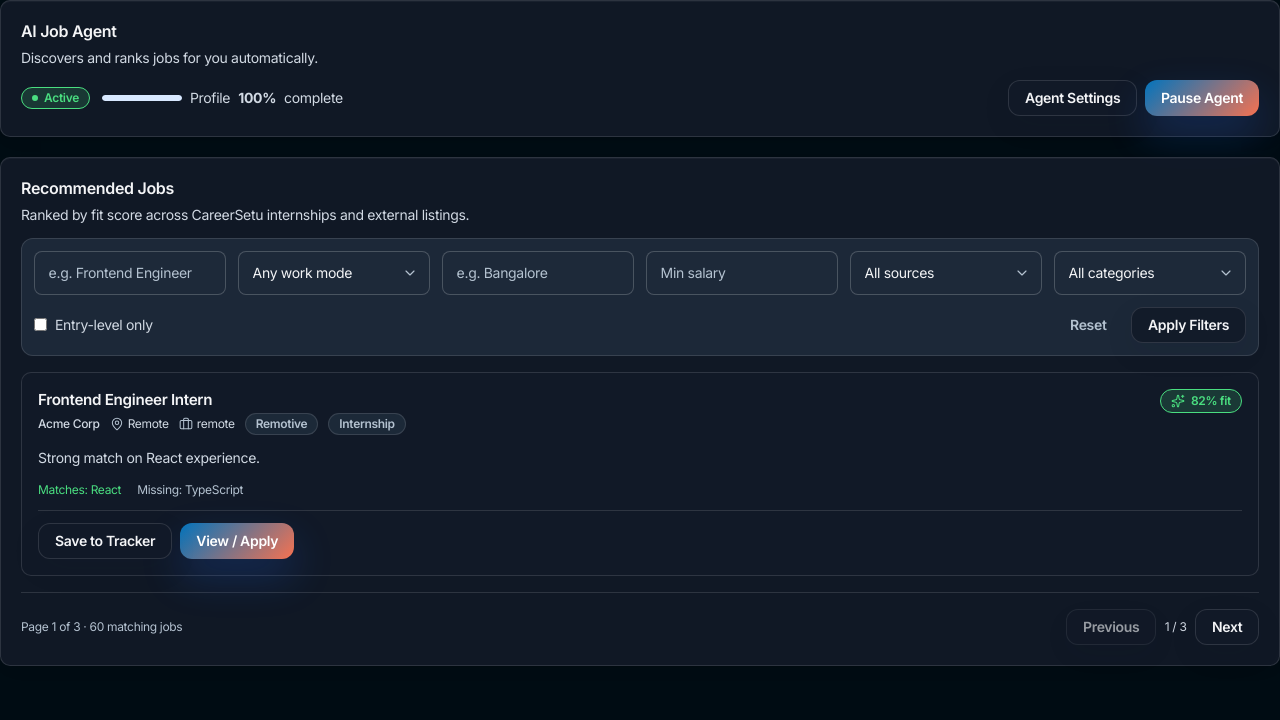
JobAgentDashboardPage › pagination › Next is disabled once paged through to the last page
Expected: the text "Page 1 of 3" is shown, [21,619,182,635]
Step 1. Click the button with aria-label "Next page" → x=1227, y=627, box [1194,609,1259,645]
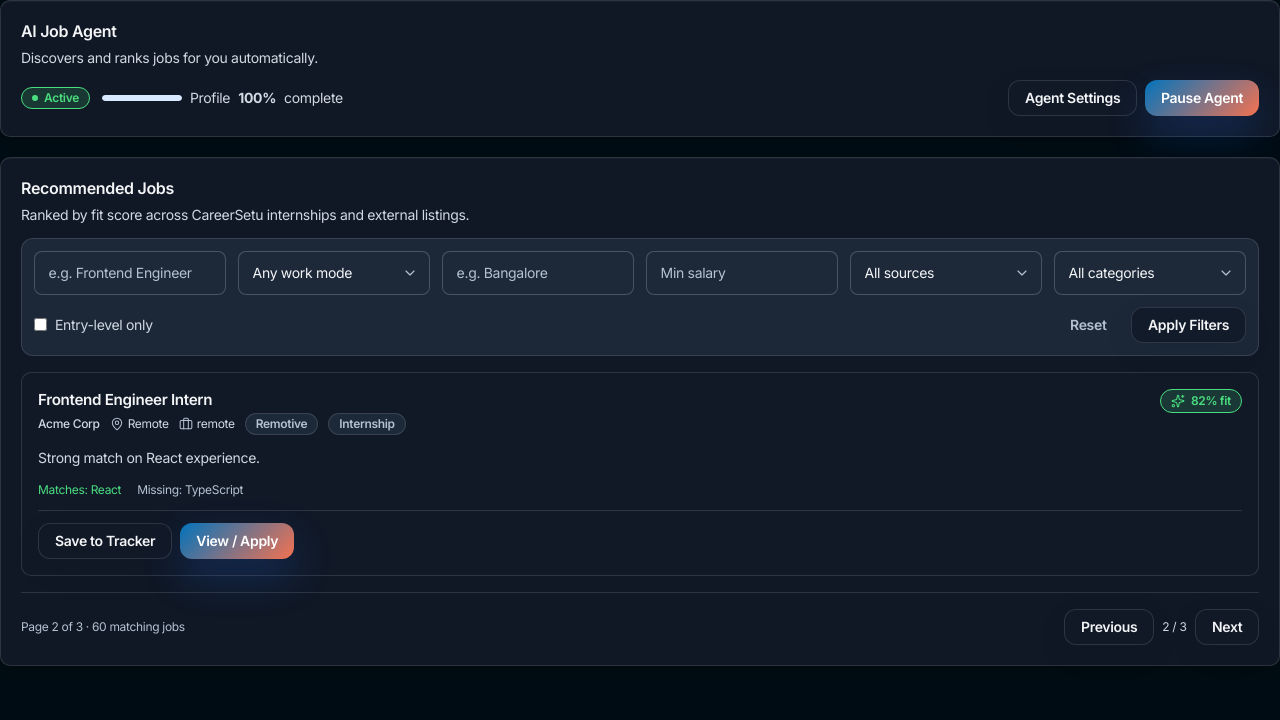
Now the text "Page 2 of 3" is shown, box [21,619,185,635]
Step 2. Click the button with aria-label "Next page" → x=1227, y=627, box [1194,609,1259,645]
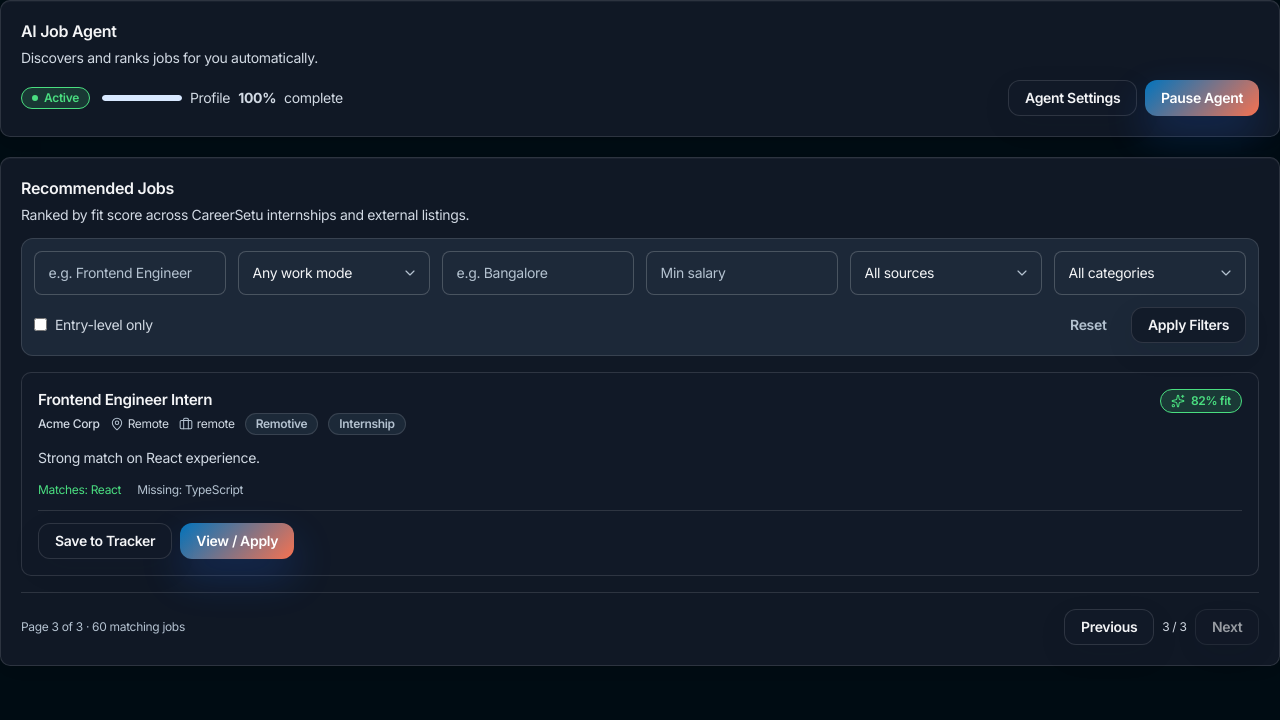
Now the button with aria-label "Previous page" is enabled, box [1064,609,1154,645]
Now the text "Page 3 of 3" is shown, box [21,619,185,635]
Now the button with aria-label "Next page" is disabled, box [1194,609,1259,645]
